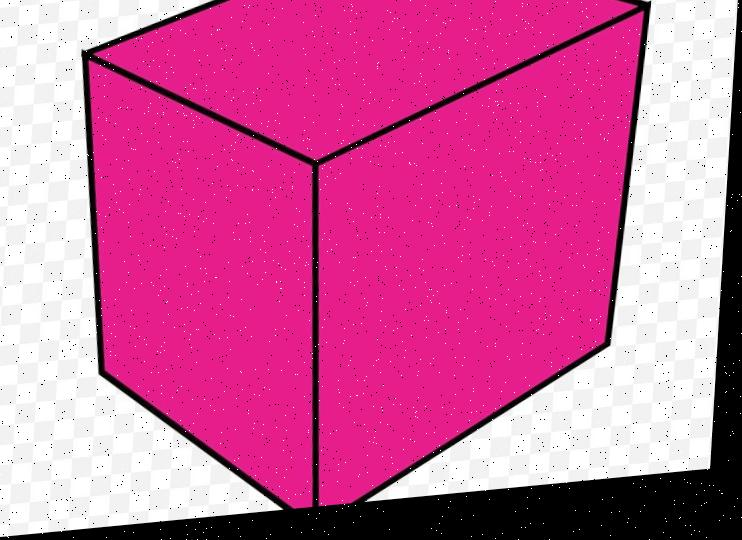cube: (55, 0, 678, 534)
